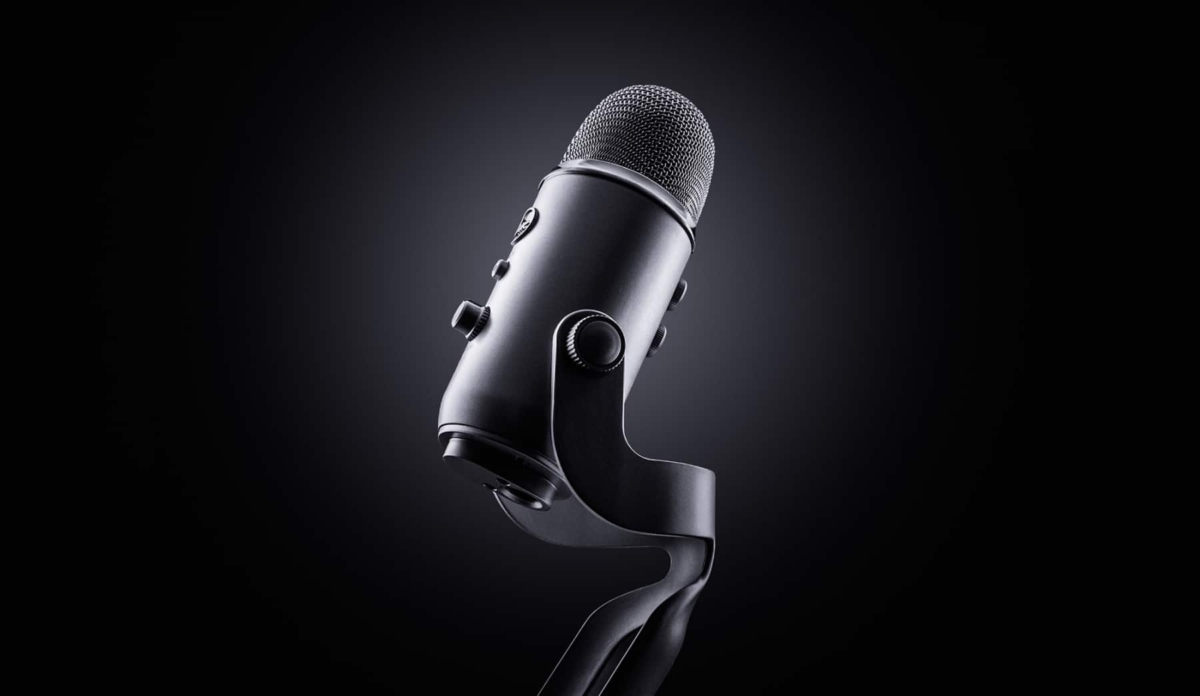microphone: (426, 78, 726, 696)
